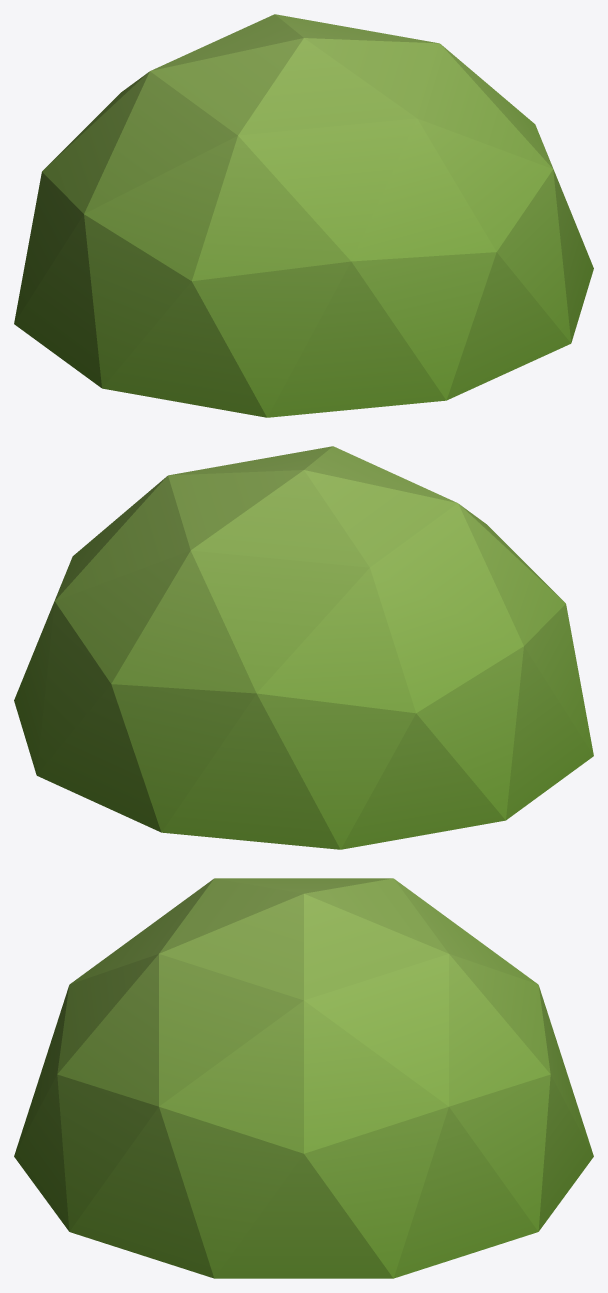
Rendered from bush plant.fbx.
3 renders of one model, top to bottom at view 1: azimuth 30°, elevation 25°; view 2: azimuth 150°, elevation 25°; view 3: azimuth 270°, elevation 25°, orthographic.
Parts seen in each view (by area): view 1: bush plant; view 2: bush plant; view 3: bush plant.
Part boxes in pixels (<box>): bush plant: <box>14,14,593,417</box>; bush plant: <box>14,446,593,849</box>; bush plant: <box>14,878,593,1278</box>.
Size of the model in its own units: 199 by 100 by 200.
